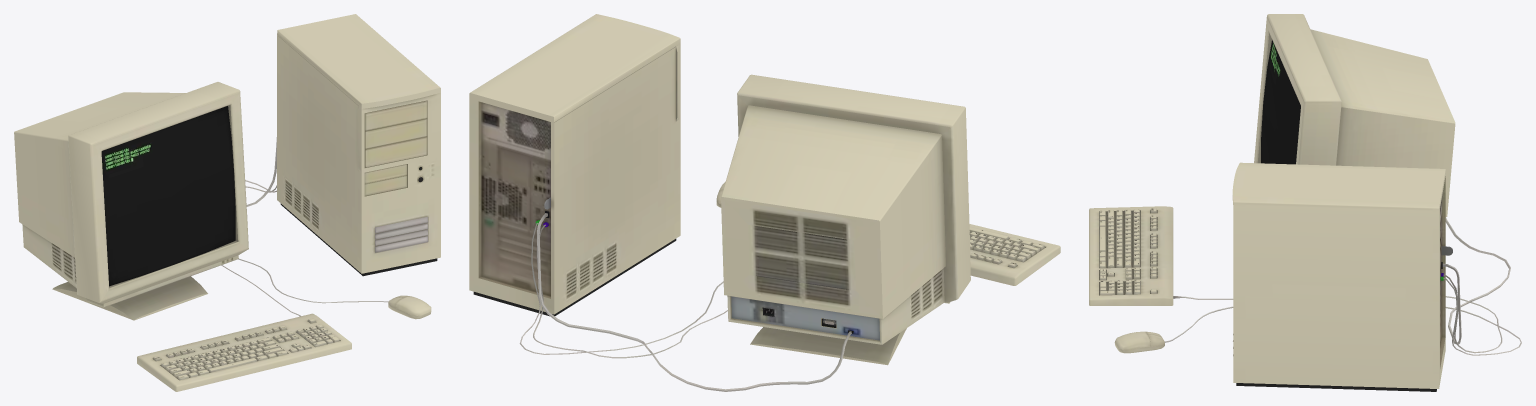
File: retro_computer_setup.compressed.glb
The picture shows the model from 3 angles, left to right: view 1: azimuth 30°, elevation 25°; view 2: azimuth 150°, elevation 25°; view 3: azimuth 270°, elevation 25°; orthographic projection. The views are drawn at different scales.
Visible parts, largest first — view 1: retro_computer_setup_retro_computer_setup_Mat_0; view 2: retro_computer_setup_retro_computer_setup_Mat_0; view 3: retro_computer_setup_retro_computer_setup_Mat_0.
Boxes of the visible parts, x1,y1,x2,y2 form: retro_computer_setup_retro_computer_setup_Mat_0: (14,14,440,391); retro_computer_setup_retro_computer_setup_Mat_0: (469,14,1060,391); retro_computer_setup_retro_computer_setup_Mat_0: (1089,14,1521,391).
Size of the model in its own units: 96.81 by 49.28 by 96.94.
1 material, 1 textured.
